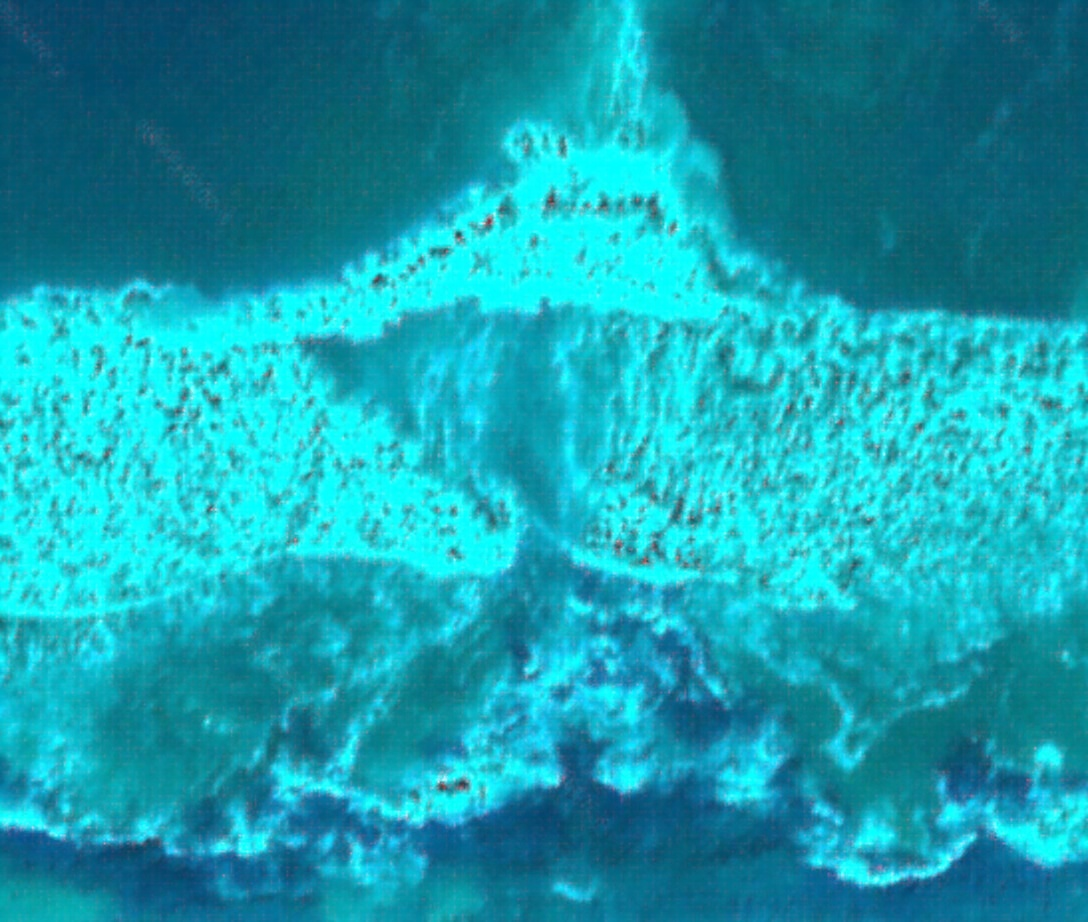rip_current: (336, 67, 684, 740)
